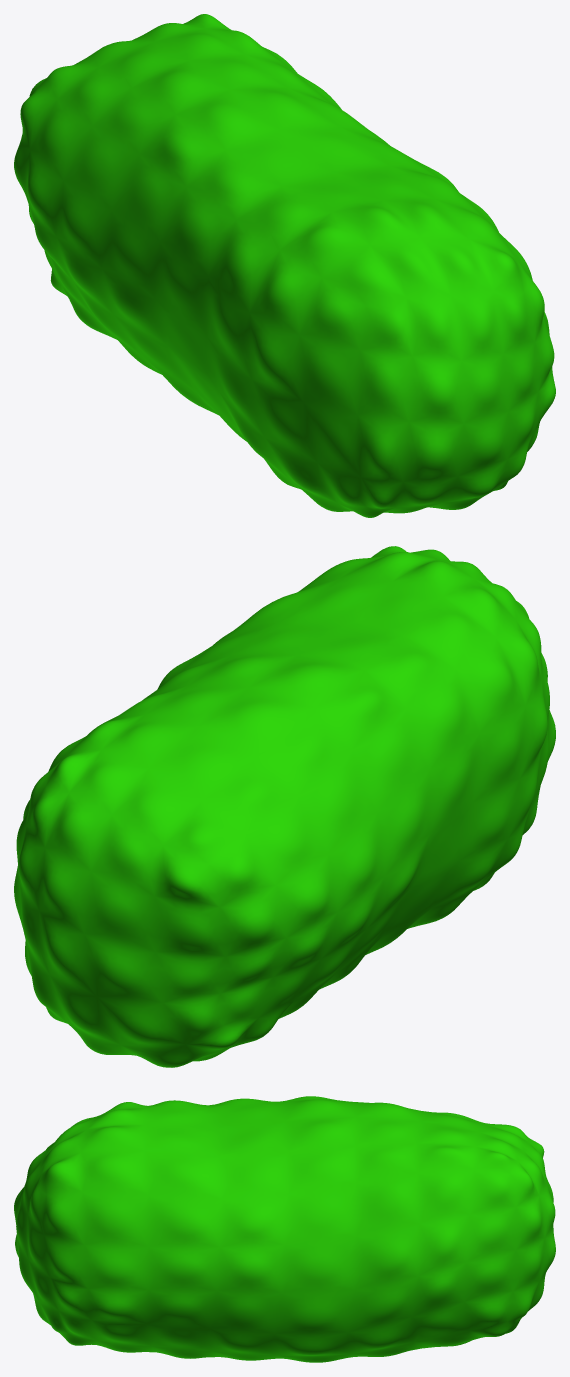
Rendered from Busch1.fbx.
3 renders of one model, top to bottom at view 1: azimuth 30°, elevation 25°; view 2: azimuth 150°, elevation 25°; view 3: azimuth 270°, elevation 25°, orthographic. The views are drawn at different scales.
Visible parts, largest first — view 1: Cube.002; view 2: Cube.002; view 3: Cube.002.
Part boxes in pixels (x1,y1,x2,y2): Cube.002: [14, 14, 555, 517]; Cube.002: [14, 546, 555, 1067]; Cube.002: [14, 1096, 555, 1362].
Bounding box in the file's own units: 417 × 411 × 884.
